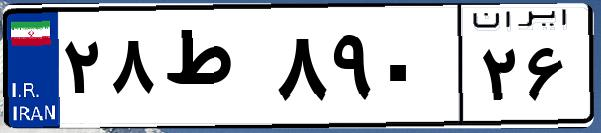0: (385, 28, 445, 110)
2: (57, 26, 110, 100), (475, 38, 525, 113)
6: (525, 38, 570, 115)
8: (270, 28, 330, 110), (110, 28, 158, 98)
9: (330, 28, 385, 110)
ط: (158, 20, 270, 120)
